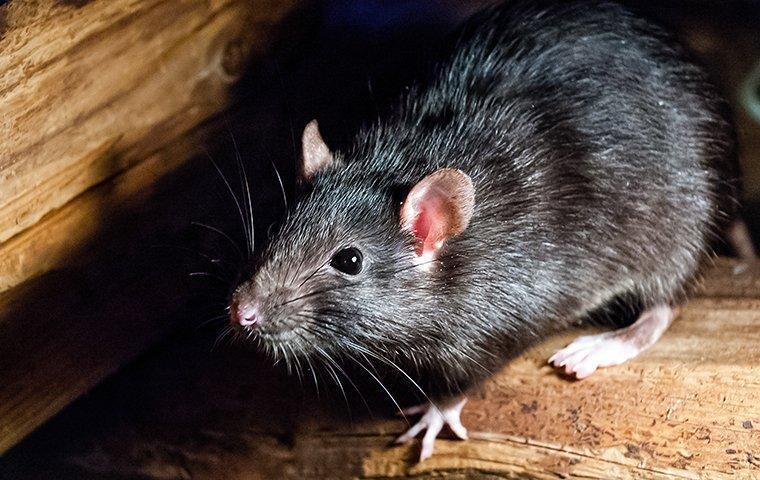rat: (234, 11, 704, 460)
